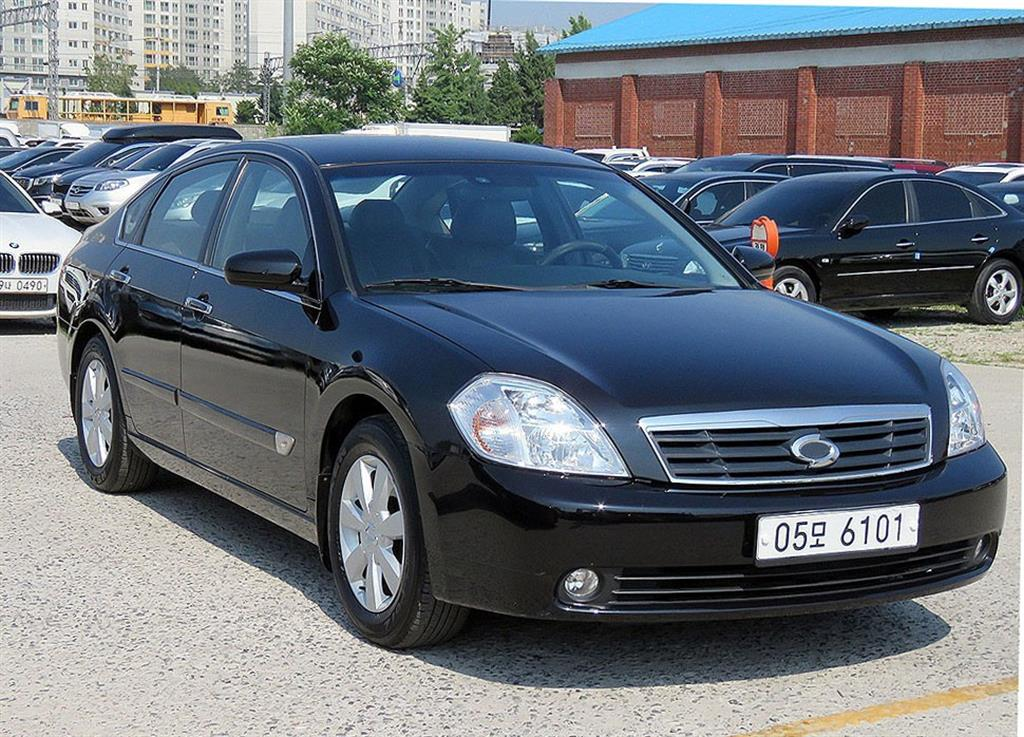plate: (756, 504, 919, 559)
